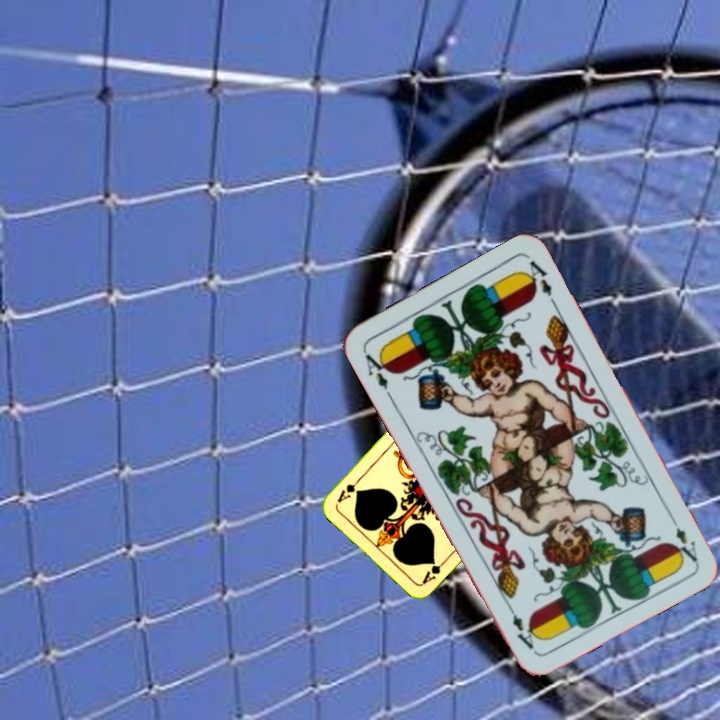EA: (665, 509, 700, 565), (360, 347, 395, 392)
GA: (418, 554, 451, 587)
